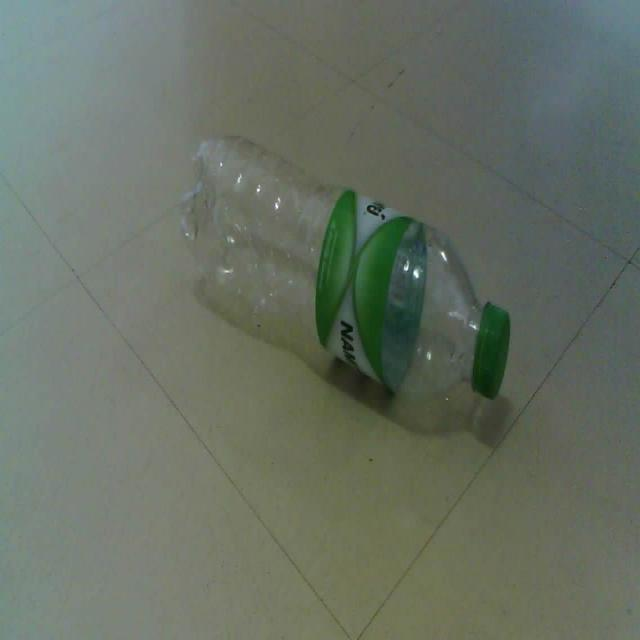empty: (182, 136, 510, 398)
